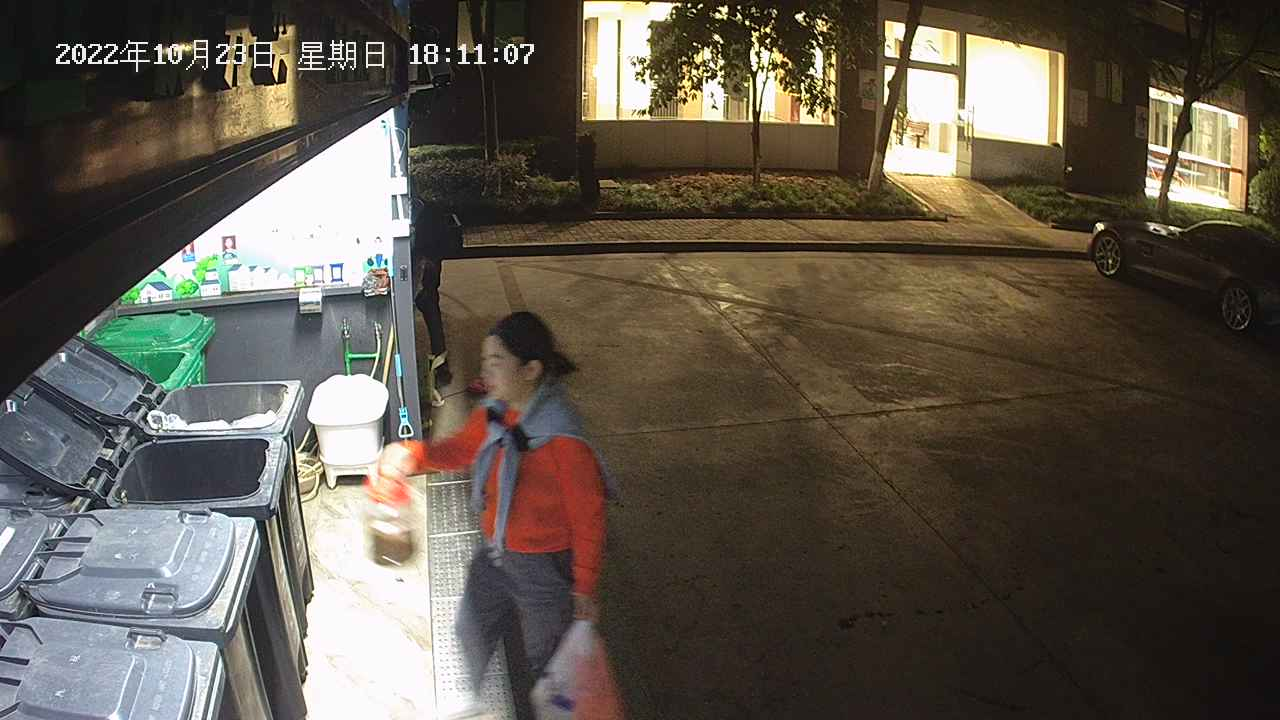garbage-bag: (527, 616, 629, 720)
suliaozhipin: (365, 456, 419, 566)
worker: (361, 307, 634, 720)
